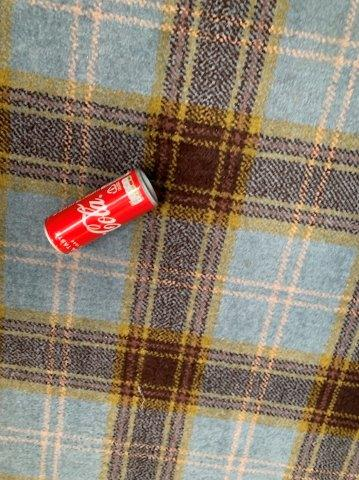kaleng: (45, 171, 157, 254)
